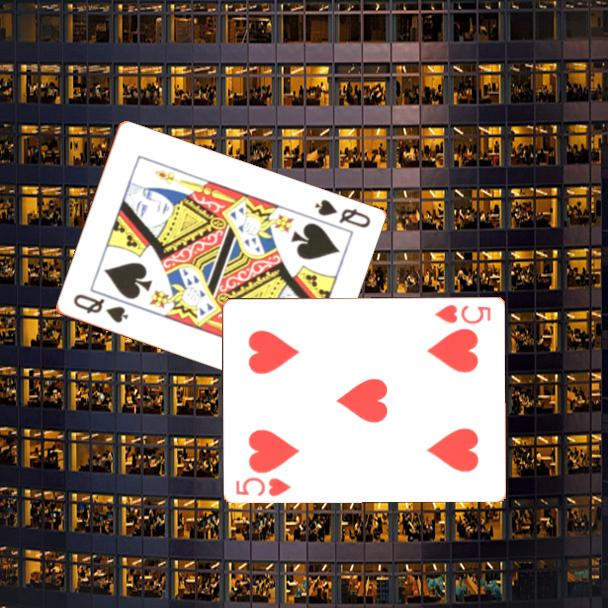h05: (432, 301, 494, 327), (232, 473, 294, 499)
s12: (69, 290, 131, 326), (310, 196, 373, 231)
